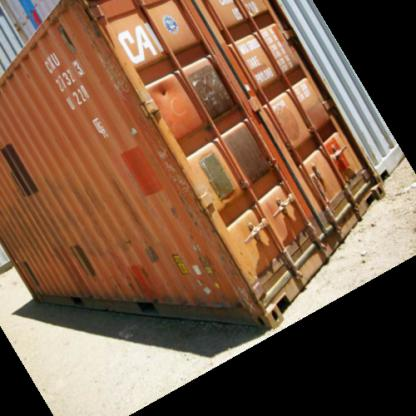Damage: (122, 67, 190, 199), (187, 184, 246, 297), (82, 10, 128, 100), (83, 228, 140, 260), (132, 228, 168, 274)
